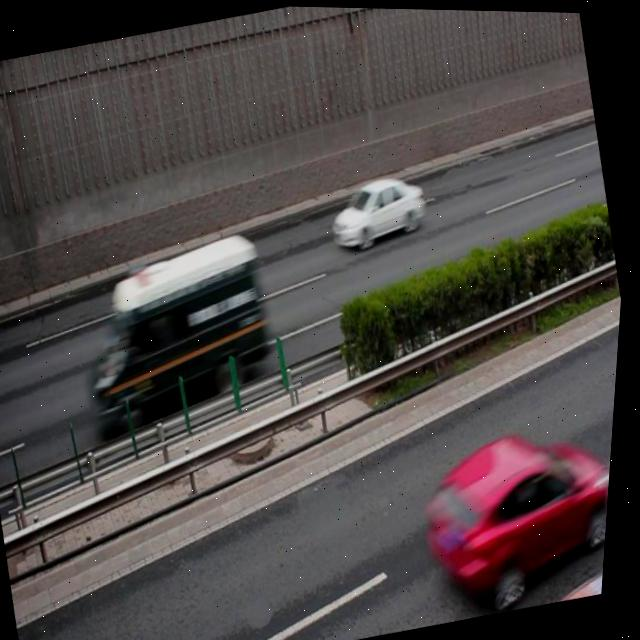car: (413, 408, 619, 618), (324, 167, 436, 251), (510, 547, 612, 609)
truck: (68, 221, 294, 437)
